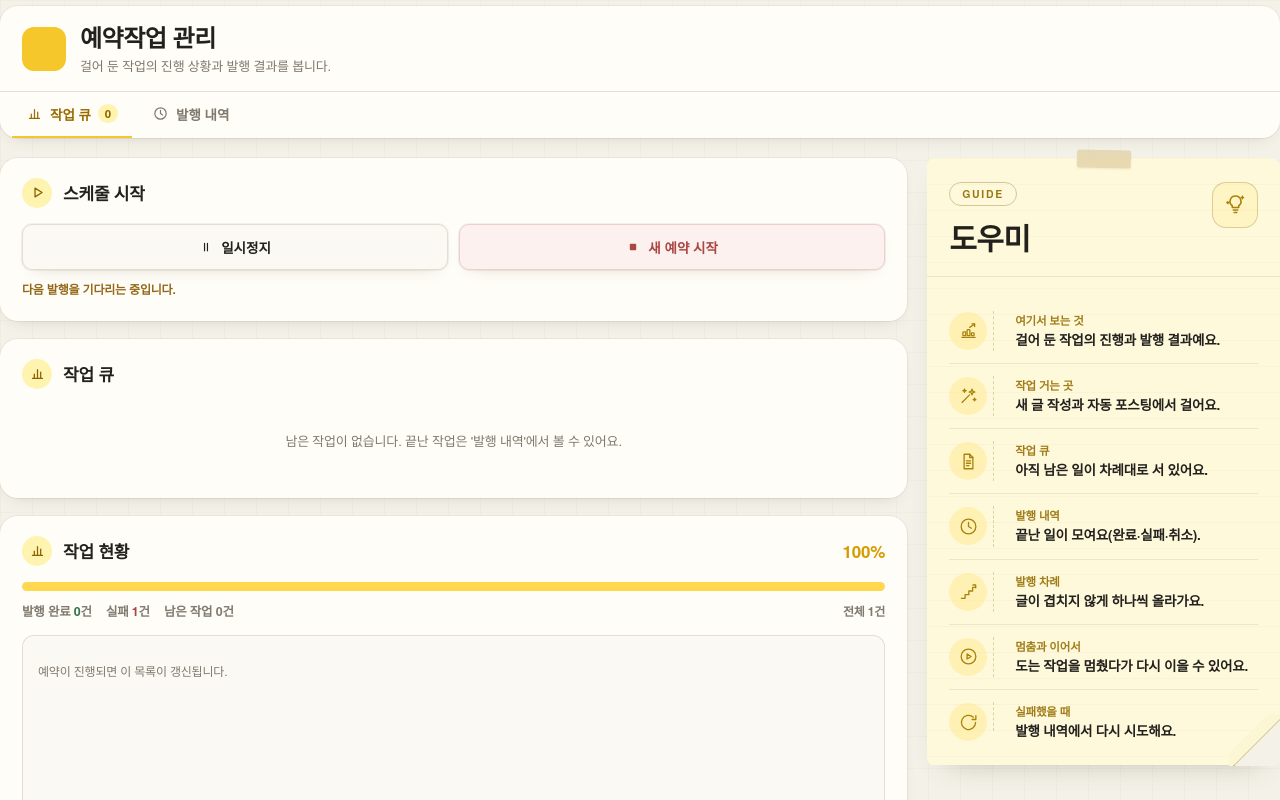
it: 예약 포스팅 화면 › 발행 내역은 셀레니움 스택을 한 줄로 줄이고 원문은 접어 둔다
Click the tab "발행 내역" at [191, 115], box [138,92,243,138]
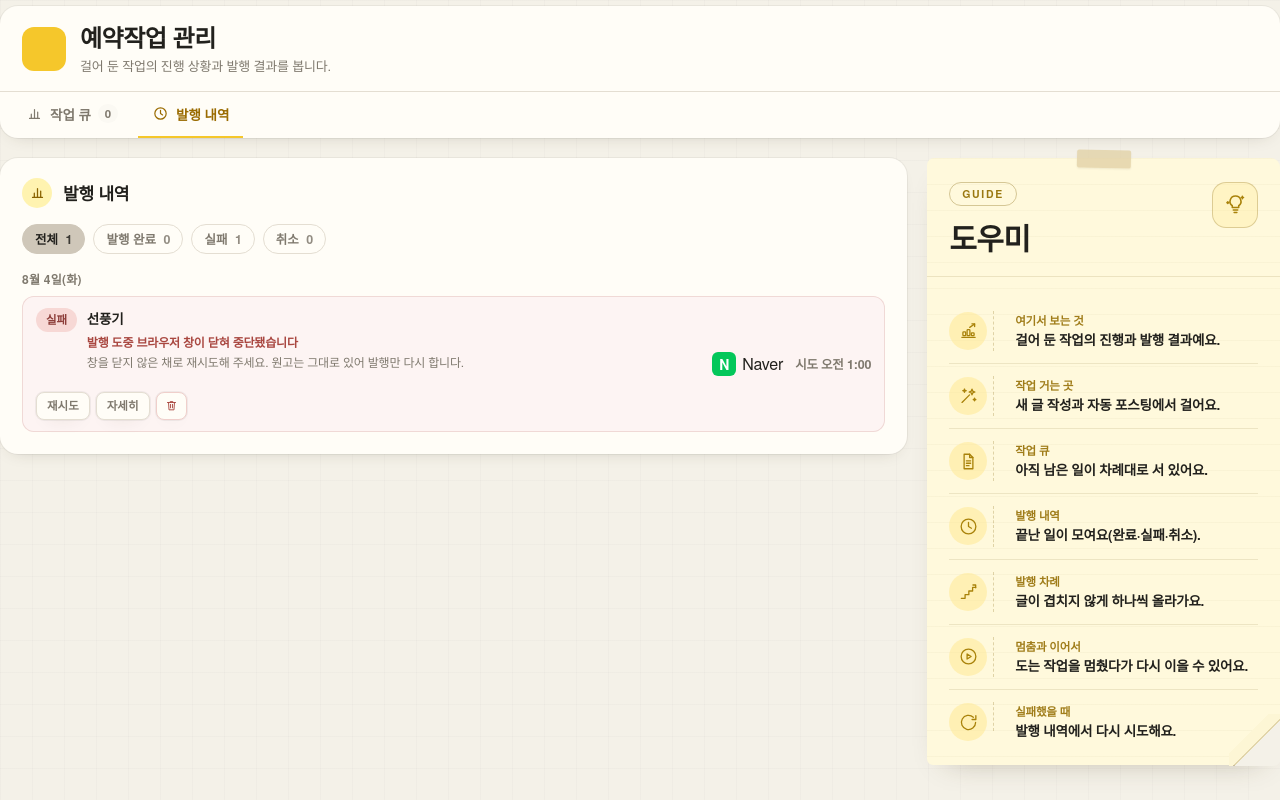
Result: the text "발행 도중 브라우저 창이 닫혀 중단됐습니다" is shown at [87,333,298,351]
Click the button "자세히" at [123, 406], box [96,392,150,420]
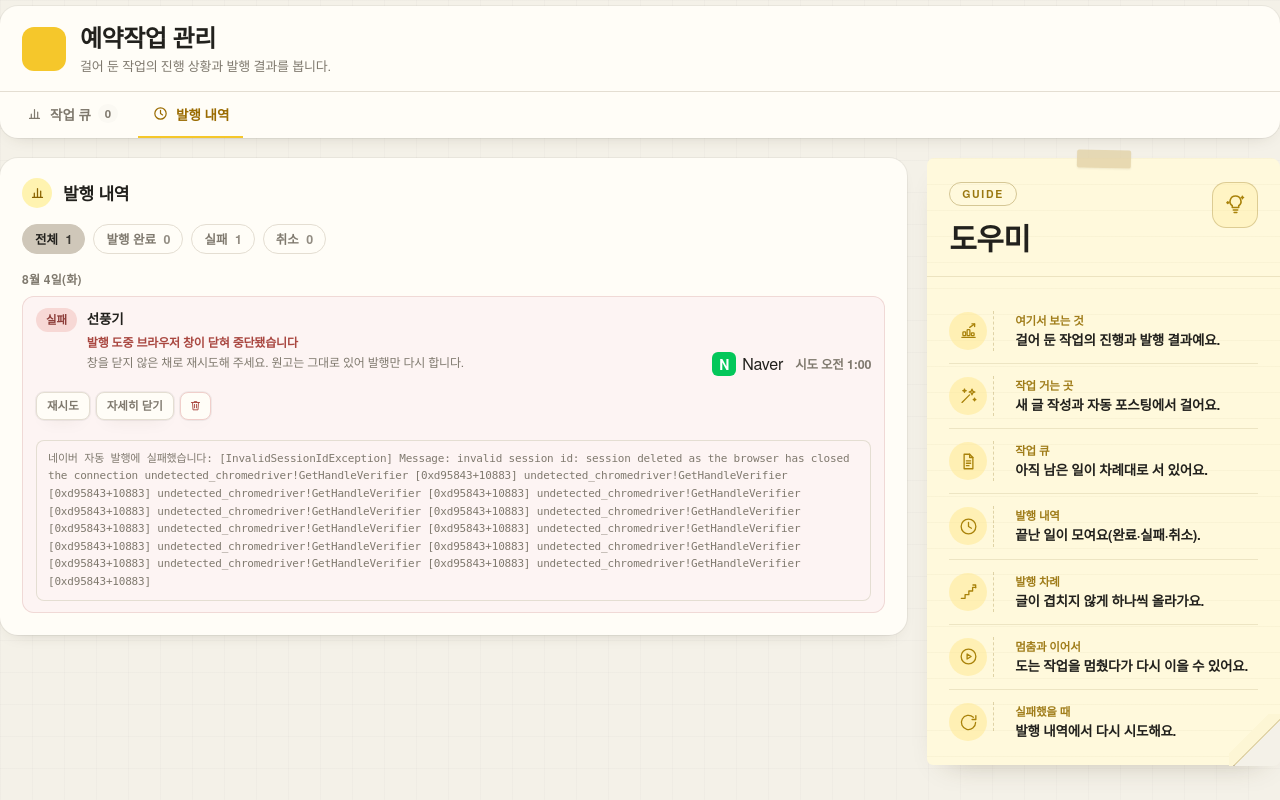
Result: the text with class "history-detail" shows "InvalidSessionIdException" at [48,452,856,588]
